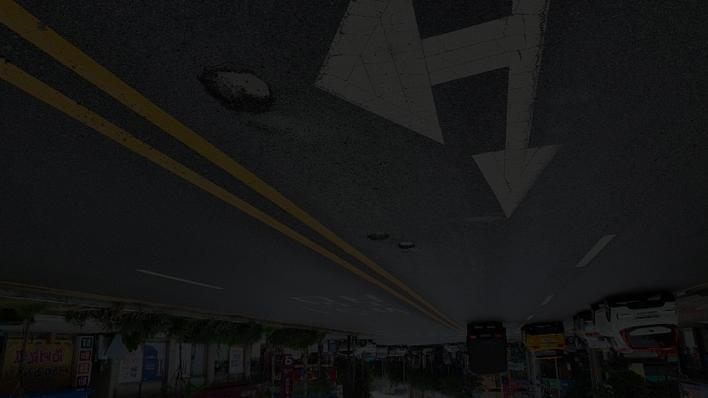pothole: (188, 60, 284, 122), (361, 229, 389, 248), (391, 237, 422, 254)
